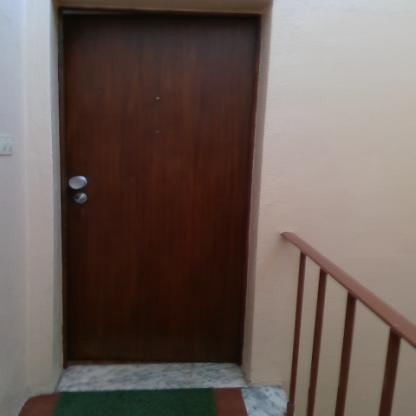door: (59, 11, 245, 362)
knob: (65, 176, 89, 190)
